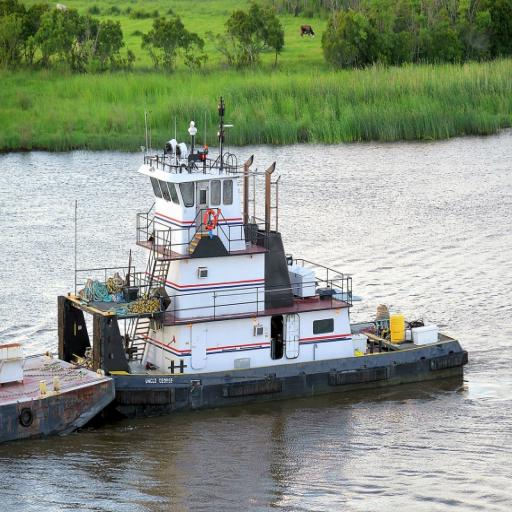tugboat: (51, 94, 474, 413)
